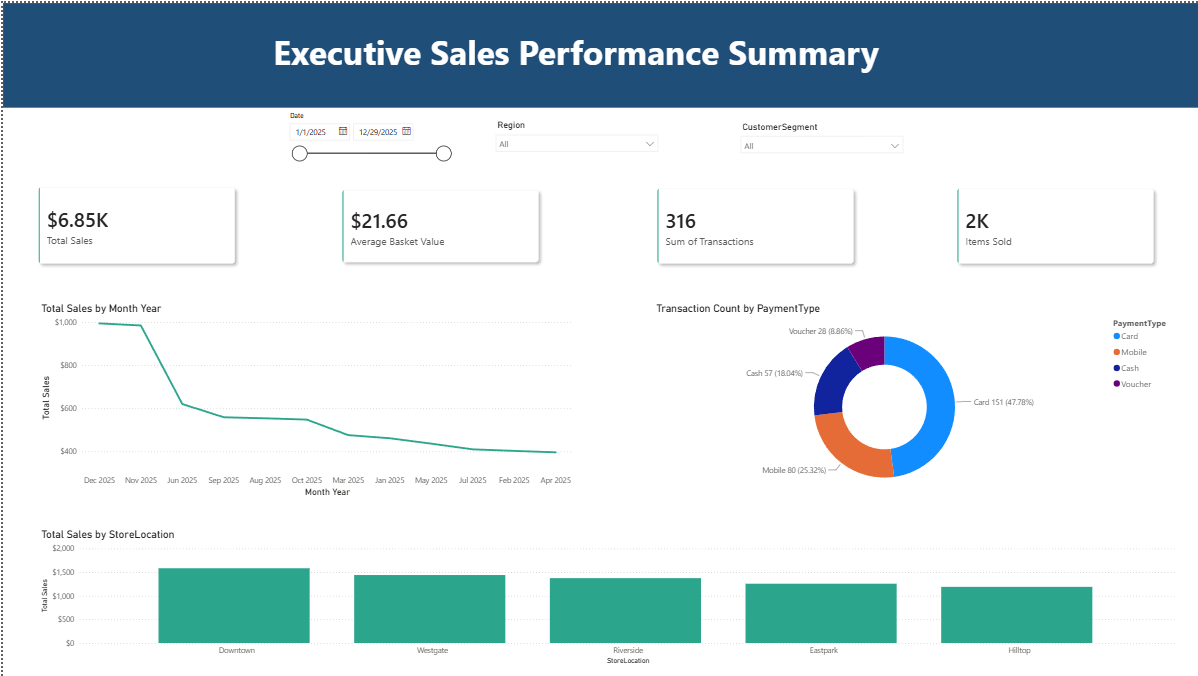

This screenshot's page, from the dashboard's own definition file:
{"tool":"powerbi","page":{"name":"Sales Overview","canvas":[1920,1080],"ordinal":0},"visuals":[{"type":"slicer","fields":{"Values":["Calendar.Date"]},"box":[446,168,280,104],"z":0},{"type":"slicer","fields":{"Values":["FactTransactions.Region"]},"box":[778,182,280,72],"z":1000},{"type":"slicer","fields":{"Values":["FactTransactions.CustomerSegment"]},"box":[1170,184,280,70],"z":2000},{"type":"cardVisual","fields":{"Data":["FactTransactions.Total Sales"]},"box":[28,266,372,180],"z":3000},{"type":"cardVisual","fields":{"Data":["Sum(Customer Summary.Transactions)"]},"box":[1018,268,372,178],"z":4000},{"type":"cardVisual","fields":{"Data":["FactTransactions.Average Basket Value"]},"box":[514,270,372,174],"z":5000},{"type":"cardVisual","fields":{"Data":["FactTransactions.Items Sold"]},"box":[1498,268,372,178],"z":6000},{"type":"lineChart","fields":{"Category":["Calendar.Month Year"],"Y":["FactTransactions.Total Sales"]},"box":[56,478,862,318],"z":7000},{"type":"clusteredColumnChart","fields":{"Category":["FactTransactions.StoreLocation"],"Y":["FactTransactions.Total Sales"]},"box":[56,840,1826,224],"z":8000},{"type":"donutChart","fields":{"Category":["FactTransactions.PaymentType"],"Y":["FactTransactions.Transaction Count"]},"box":[1040,478,842,318],"z":9000},{"type":"shape","box":[0,0,1920,167.5],"z":10000},{"type":"textbox","box":[176,36,1482,96],"z":12000}]}

Visuals, with their boxes in screenshot pixels (x1, y1, x2, y2), scaled from the page's 1920x1080 canvas onto the 1198x676 screenshot:
slicer - Calendar.Date: rect(278, 105, 453, 170)
slicer - FactTransactions.Region: rect(485, 114, 660, 159)
slicer - FactTransactions.CustomerSegment: rect(730, 115, 905, 159)
cardVisual - FactTransactions.Total Sales: rect(17, 166, 250, 279)
cardVisual - Sum(Customer Summary.Transactions): rect(635, 168, 867, 279)
cardVisual - FactTransactions.Average Basket Value: rect(321, 169, 553, 278)
cardVisual - FactTransactions.Items Sold: rect(935, 168, 1167, 279)
lineChart - Calendar.Month Year x FactTransactions.Total Sales: rect(35, 299, 573, 498)
clusteredColumnChart - FactTransactions.StoreLocation x FactTransactions.Total Sales: rect(35, 526, 1174, 666)
donutChart - FactTransactions.PaymentType x FactTransactions.Transaction Count: rect(649, 299, 1174, 498)
shape: rect(0, 0, 1197, 105)
textbox: rect(110, 23, 1035, 83)
